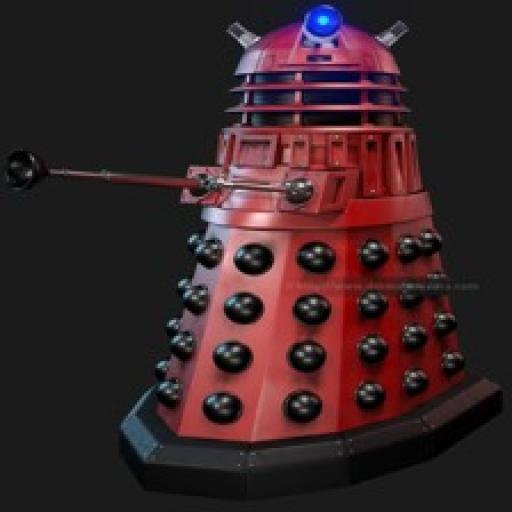dalek: (2, 2, 512, 473)
